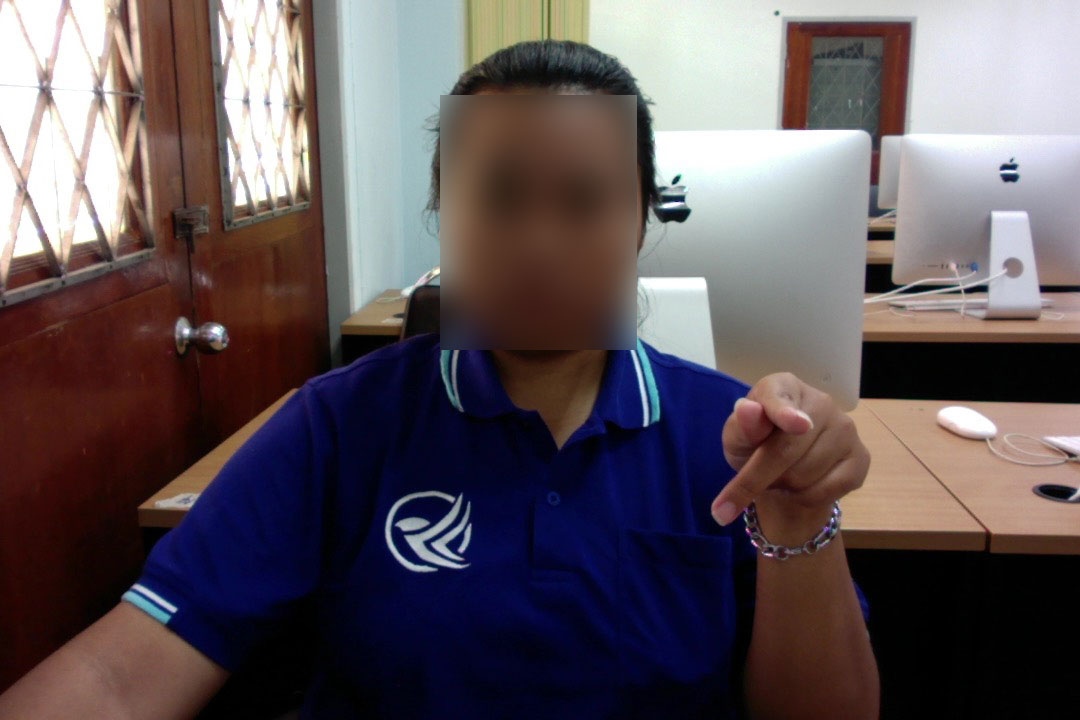por: (708, 360, 875, 533)
